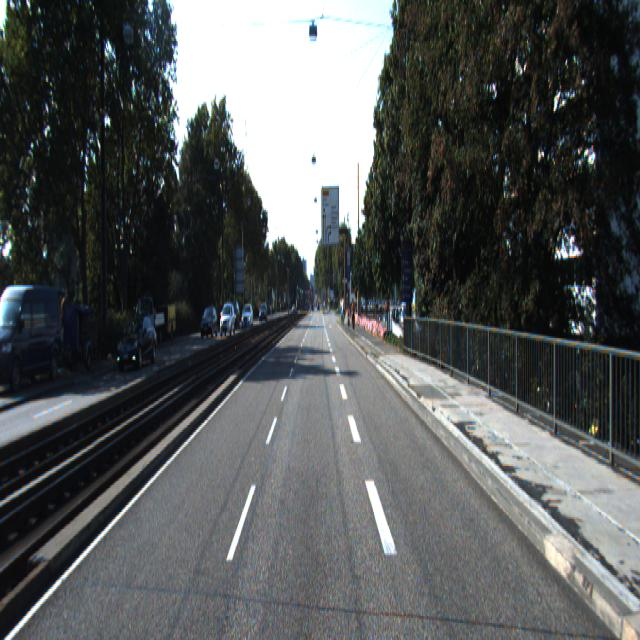Car: (0, 276, 65, 391), (116, 315, 160, 374), (64, 300, 98, 372), (132, 292, 166, 346), (199, 307, 220, 340), (162, 303, 176, 340), (220, 304, 236, 336)
